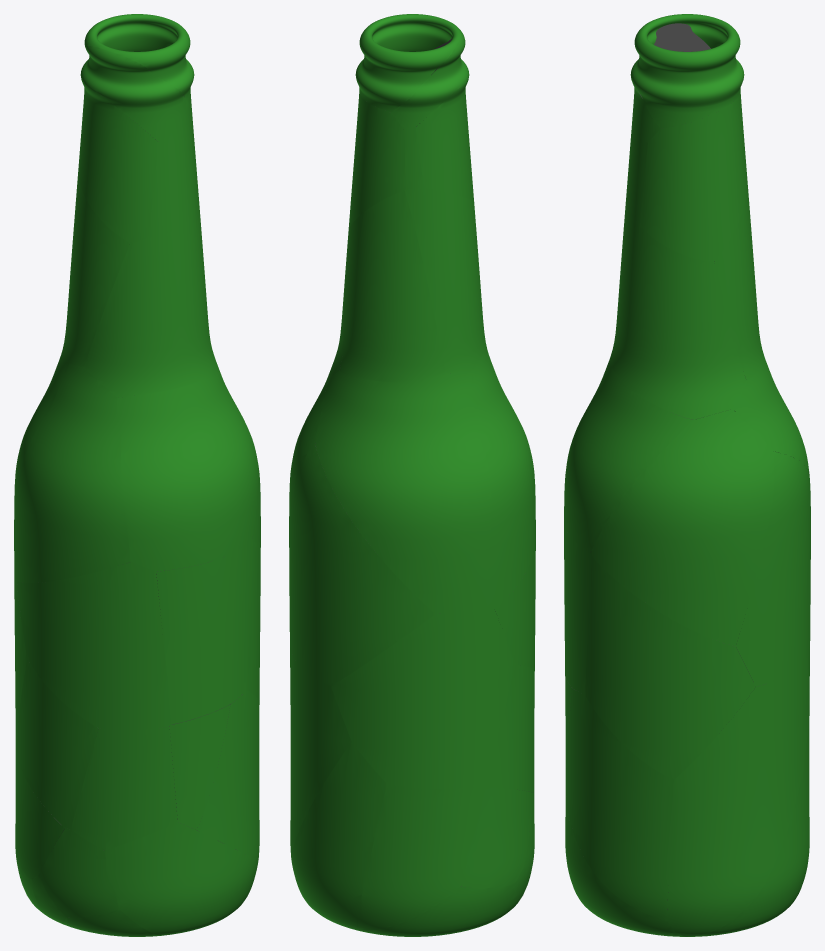
Rendered from broken_bottle.fbx.
3 renders of one model, left to right at view 1: azimuth 30°, elevation 25°; view 2: azimuth 150°, elevation 25°; view 3: azimuth 270°, elevation 25°, orthographic.
Visible parts, largest first — view 1: Circle_cell.016, Circle_cell.012, Circle_cell.025, Circle_cell.015, Circle_cell.031; view 2: Circle_cell.016, Circle_cell.015, Circle_cell.008, Circle_cell.012, Circle_cell.025, Circle_cell.003; view 3: Circle_cell.016, Circle_cell.008, Circle_cell.015, Circle_cell.025, Circle_cell.031.
Boxes of the visible parts, left/top/right/bottom form: Circle_cell.016: left=14, top=172, right=260, bottom=936; Circle_cell.012: left=78, top=83, right=158, bottom=242; Circle_cell.025: left=80, top=46, right=191, bottom=141; Circle_cell.015: left=84, top=14, right=194, bottom=106; Circle_cell.031: left=148, top=132, right=195, bottom=237; Circle_cell.016: left=289, top=188, right=535, bottom=936; Circle_cell.015: left=355, top=14, right=460, bottom=112; Circle_cell.008: left=348, top=94, right=406, bottom=231; Circle_cell.012: left=415, top=81, right=474, bottom=202; Circle_cell.025: left=391, top=30, right=469, bottom=128; Circle_cell.003: left=403, top=126, right=423, bottom=188; Circle_cell.016: left=564, top=181, right=810, bottom=936; Circle_cell.008: left=639, top=92, right=747, bottom=261; Circle_cell.015: left=633, top=14, right=744, bottom=128; Circle_cell.025: left=630, top=23, right=710, bottom=142; Circle_cell.031: left=625, top=122, right=647, bottom=225.
Bounding box in the file's own units: 94.85 × 94.85 × 364.
